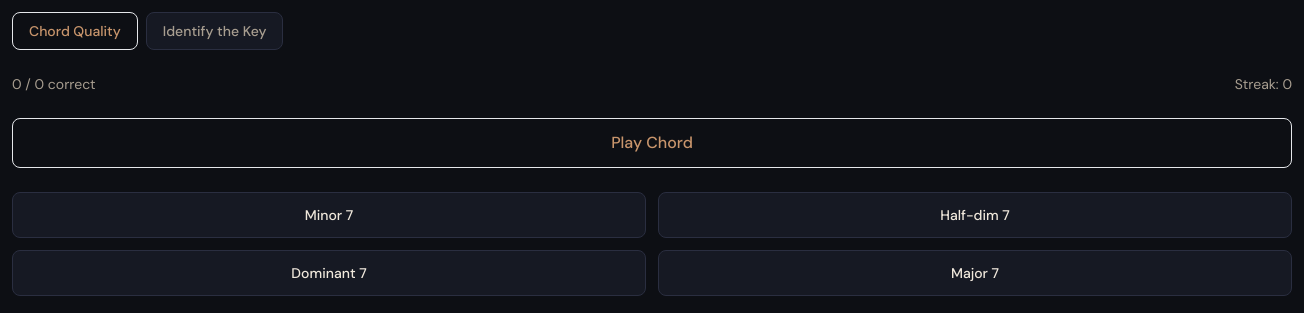
Test: EarTrainingClient › clicking Identify the Key tab switches mode
Step 1. Click the button "Identify the Key" → (215, 31), box x1=146 y1=12 x2=284 y2=50
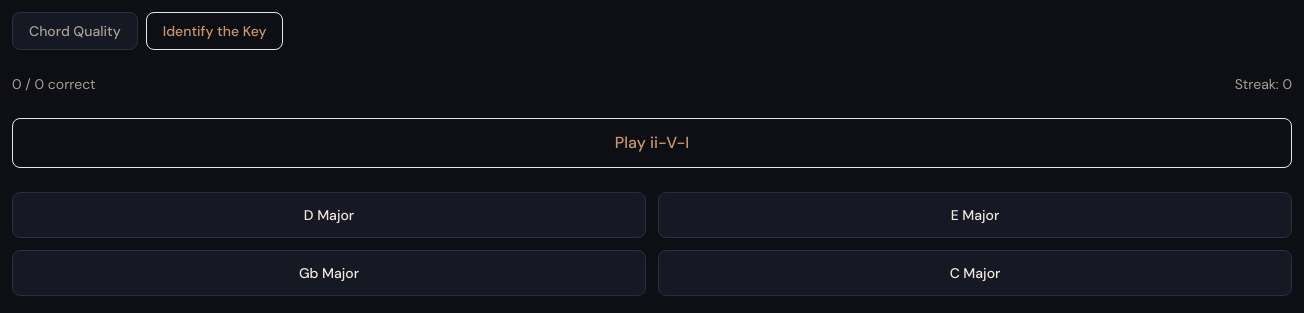
Expected: the button "Play ii-V-I" is shown, x1=12 y1=118 x2=1292 y2=168
